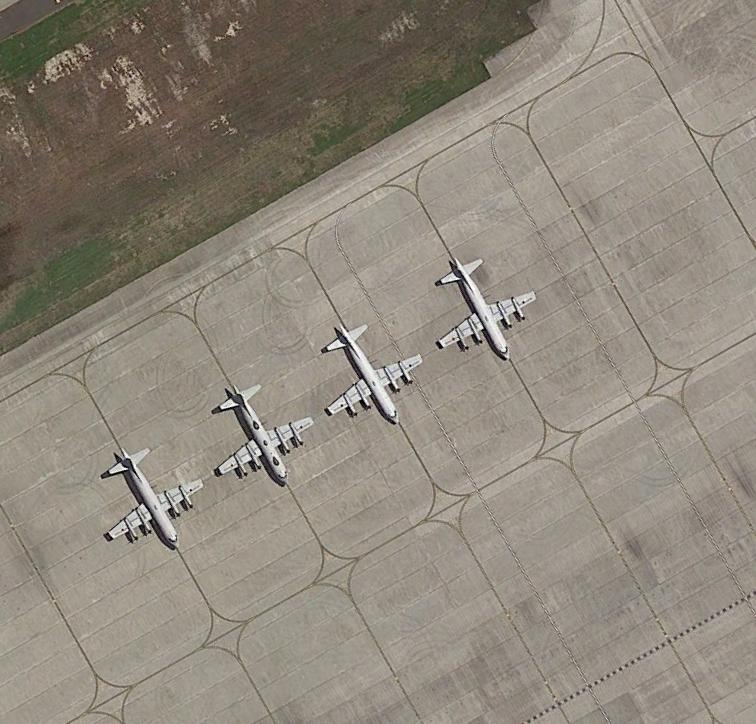A9: (94, 436, 207, 552), (202, 372, 315, 488), (313, 308, 426, 424), (425, 245, 538, 361)
